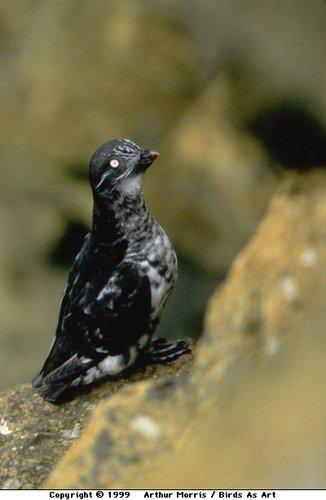006.Least_Auklet: (31, 136, 194, 407)
